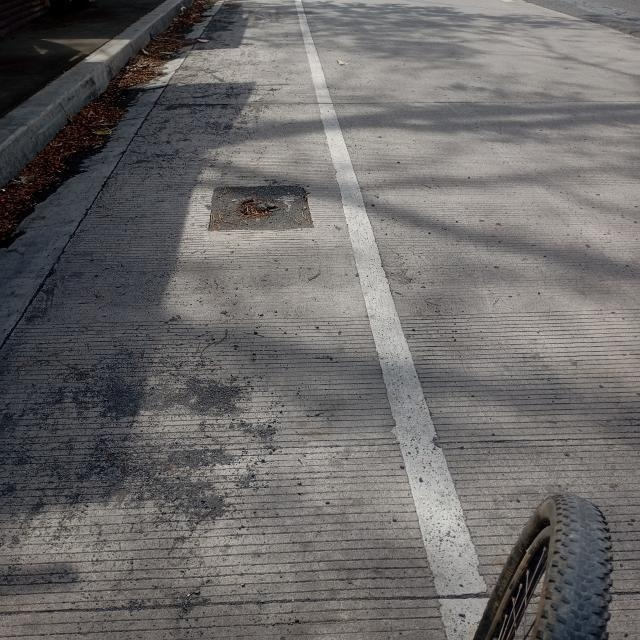pothole: (185, 167, 339, 266)
